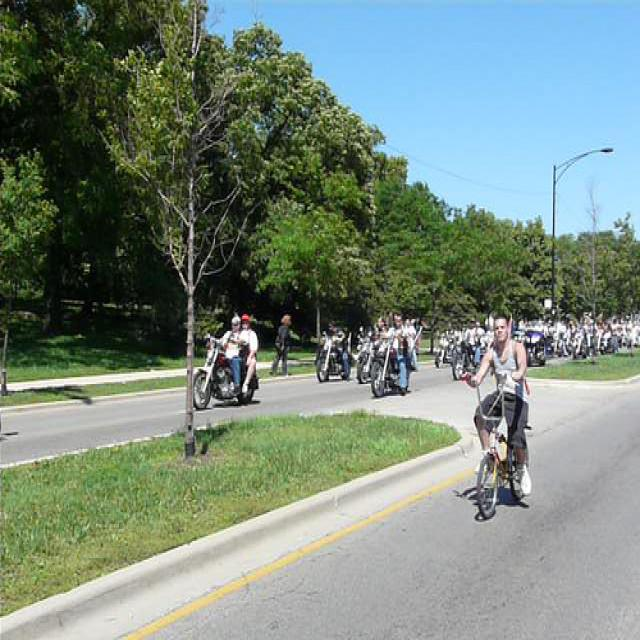motor: (191, 329, 259, 409), (368, 333, 400, 400), (317, 334, 346, 386), (449, 342, 474, 382), (572, 336, 597, 360), (435, 341, 454, 368), (526, 339, 546, 363), (357, 350, 369, 386), (599, 330, 614, 355)
